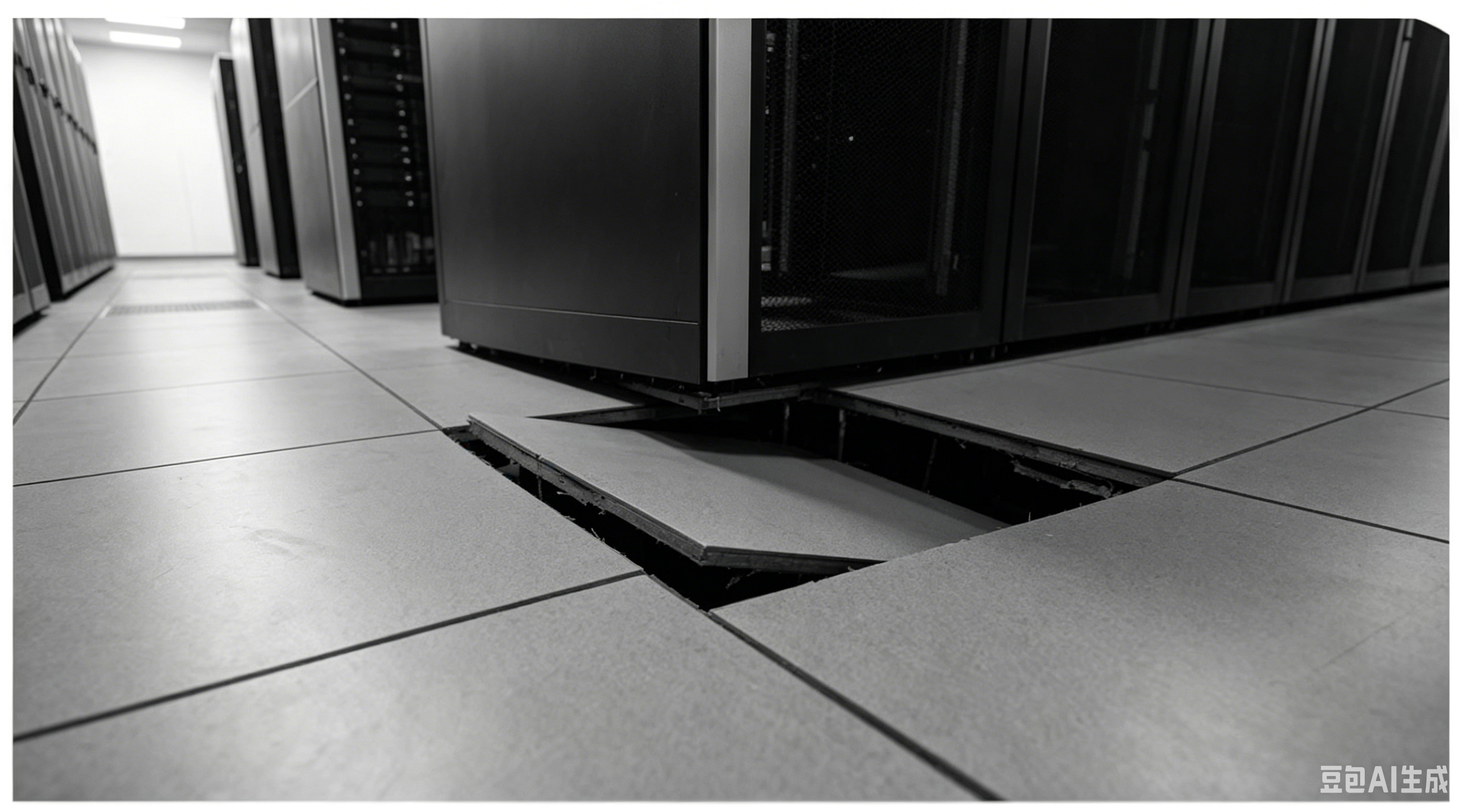floor_defect: (406, 330, 1187, 614)
